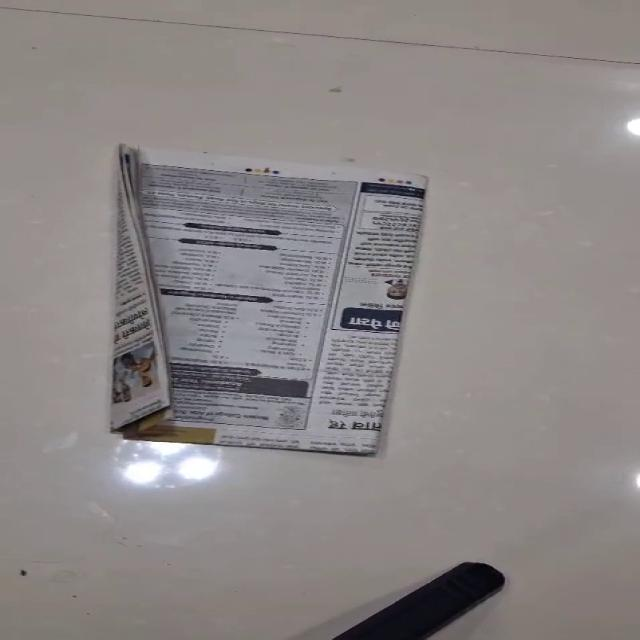paper: (110, 143, 428, 456)
